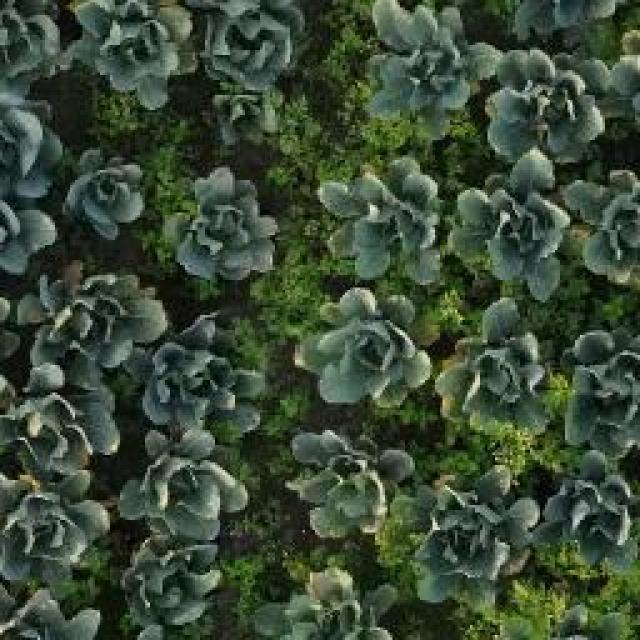cabbage: (446, 149, 578, 303), (412, 466, 544, 614), (17, 257, 166, 375), (116, 416, 250, 546), (433, 297, 551, 436), (361, 0, 499, 115), (288, 427, 418, 545), (0, 358, 125, 478), (482, 46, 608, 164), (66, 0, 199, 109), (142, 312, 264, 429), (0, 465, 112, 590), (168, 166, 282, 282), (118, 532, 223, 636), (544, 462, 638, 578), (328, 171, 433, 265), (197, 0, 313, 85), (310, 306, 418, 395), (61, 144, 150, 238), (208, 74, 292, 153)
